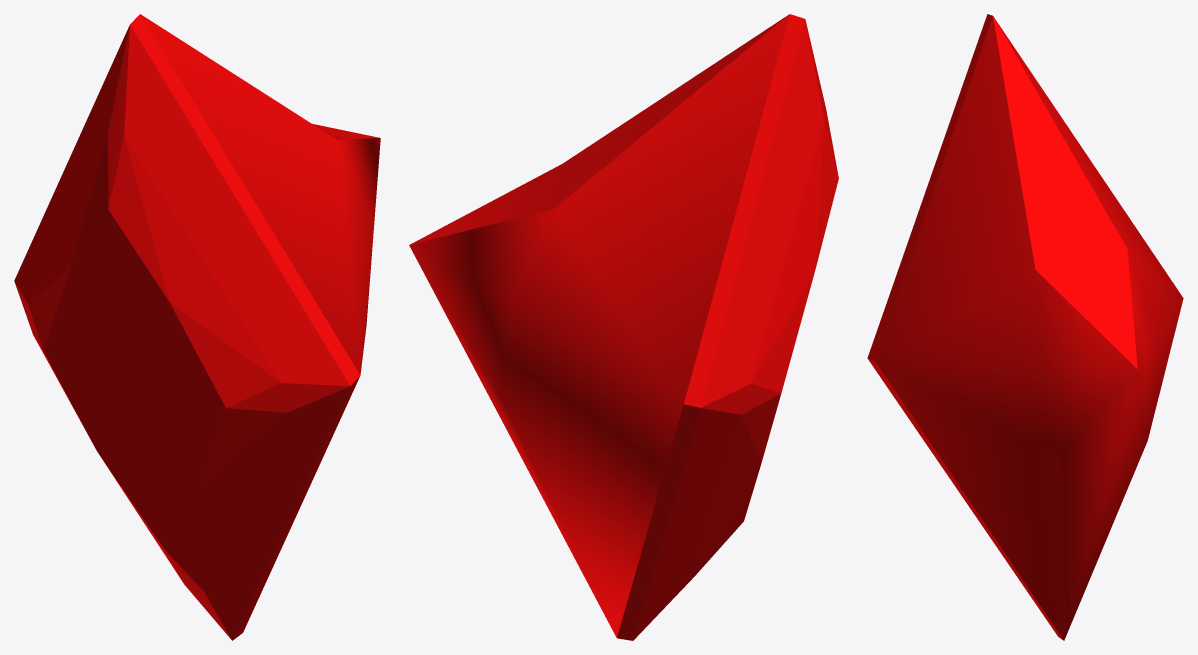
Rendered from TL4_8shapes_Kite_Classic_Stone.001 3.glb.
3 renders of one model, left to right at view 1: azimuth 30°, elevation 25°; view 2: azimuth 150°, elevation 25°; view 3: azimuth 270°, elevation 25°, orthographic. The views are drawn at different scales.
Visible parts, largest first — view 1: TL4_8shapes_Kite_Classic_Stone.001; view 2: TL4_8shapes_Kite_Classic_Stone.001; view 3: TL4_8shapes_Kite_Classic_Stone.001.
Part boxes in pixels (x1,y1,x2,y2): TL4_8shapes_Kite_Classic_Stone.001: (14, 14, 380, 640); TL4_8shapes_Kite_Classic_Stone.001: (409, 14, 838, 640); TL4_8shapes_Kite_Classic_Stone.001: (867, 14, 1183, 640).
Size of the model in its own units: 0.2947 by 0.515 by 0.2598.
